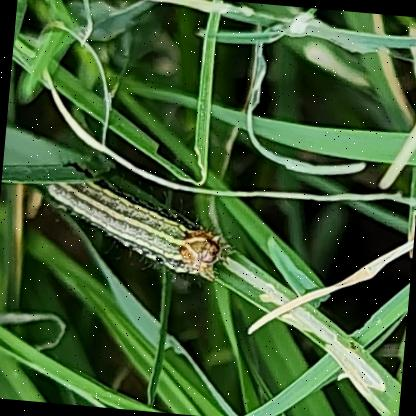Fall Armyworm Larvae: (22, 162, 246, 293)
